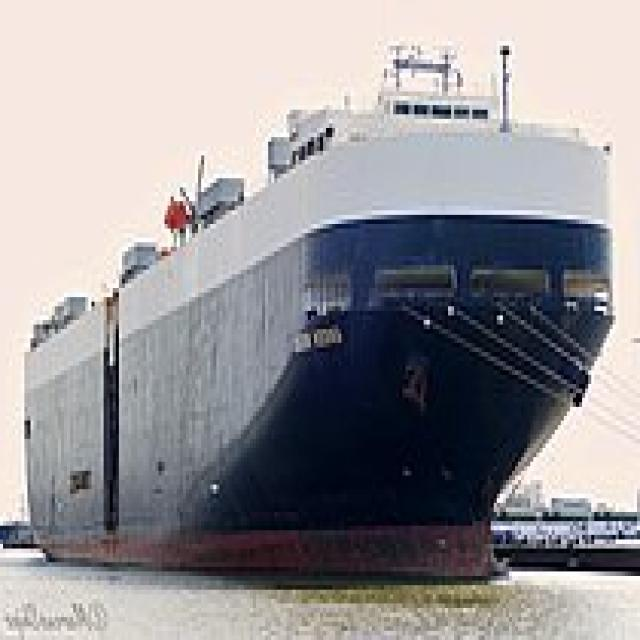Carrier: (24, 32, 619, 590)
